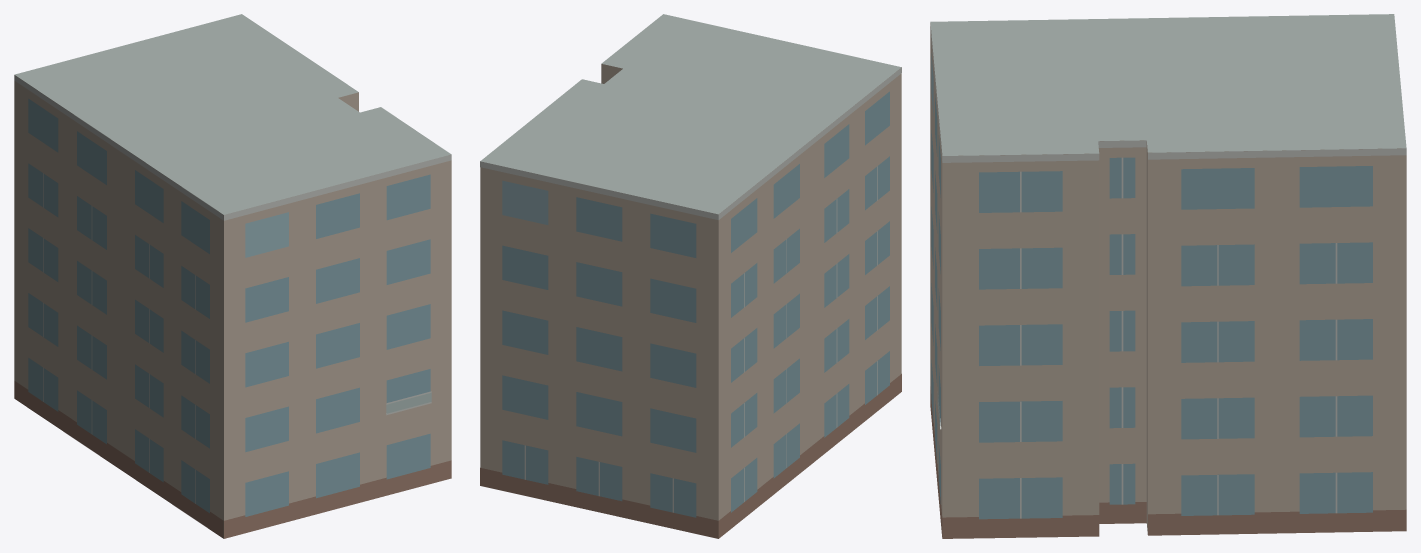
File: survey-upis-32576066.glb
3 renders of one model, left to right at view 1: azimuth 30°, elevation 25°; view 2: azimuth 150°, elevation 25°; view 3: azimuth 270°, elevation 25°, orthographic. The views are drawn at different scales.
Visible parts, largest first — view 1: survey-upis-32576066.tmp; view 2: survey-upis-32576066.tmp; view 3: survey-upis-32576066.tmp.
Part boxes in pixels (<box>): survey-upis-32576066.tmp: <box>14,14,451,538</box>; survey-upis-32576066.tmp: <box>480,14,901,538</box>; survey-upis-32576066.tmp: <box>930,14,1406,538</box>.
Bounding box in the file's own units: 10.75 × 13.5 × 15.23.
